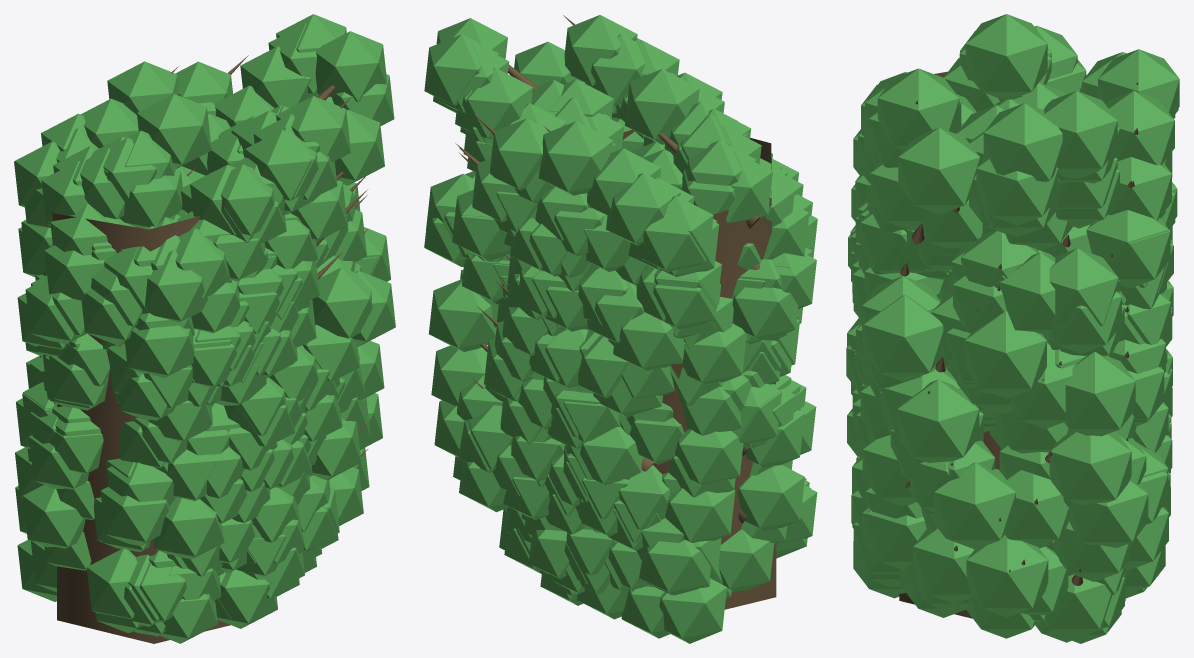
File: tree_var_1179.glb
The picture shows the model from 3 angles, left to right: view 1: azimuth 30°, elevation 25°; view 2: azimuth 150°, elevation 25°; view 3: azimuth 270°, elevation 25°; orthographic projection. The views are drawn at different scales.
Parts seen in each view (by area): view 1: tree_var_1179; view 2: tree_var_1179; view 3: tree_var_1179.
Part boxes in pixels (x1,y1,x2,y2): tree_var_1179: (14, 14, 395, 643); tree_var_1179: (424, 15, 817, 643); tree_var_1179: (846, 14, 1179, 643).
Size of the model in its own units: 3.78 by 5.34 by 2.61.
